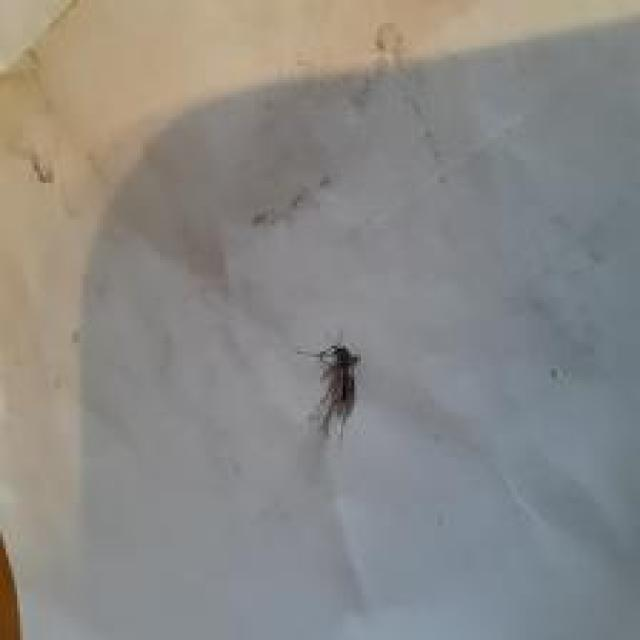Aedes albopictus: (298, 337, 362, 440)
